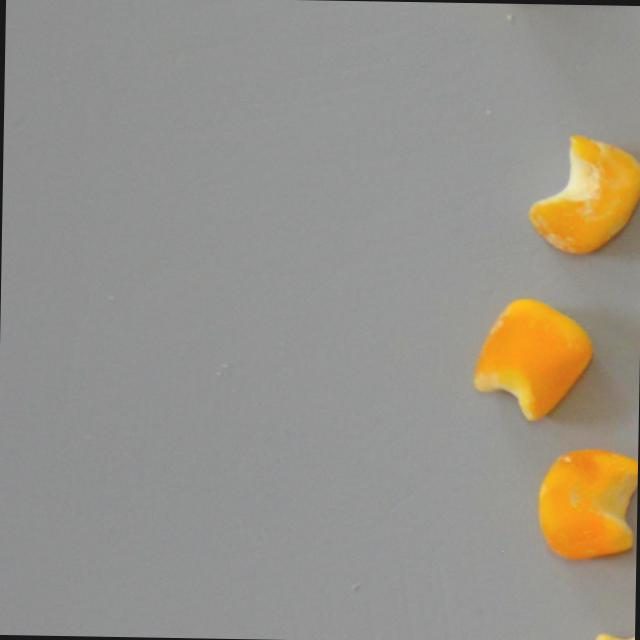dañado: (469, 291, 600, 428), (525, 128, 640, 260), (535, 444, 638, 564), (593, 598, 635, 640)
